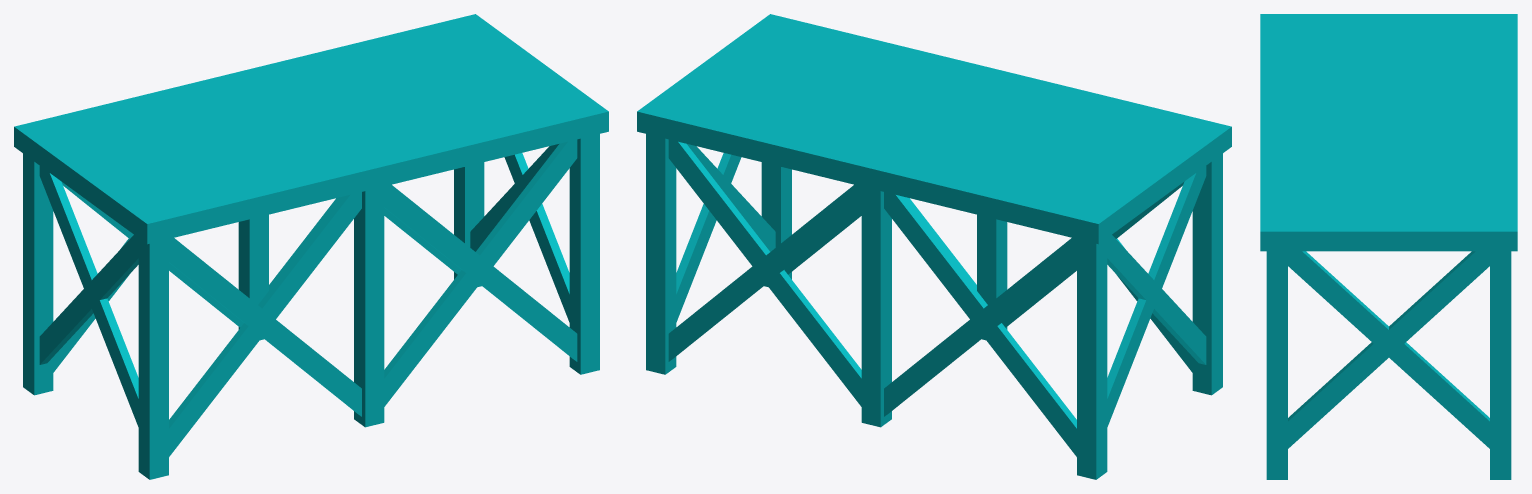
The model's file is 2x1_stand.fbx.
3 renders of one model, left to right at view 1: azimuth 30°, elevation 25°; view 2: azimuth 150°, elevation 25°; view 3: azimuth 270°, elevation 25°, orthographic. The views are drawn at different scales.
Parts seen in each view (by area): view 1: Cube, leg5, StaticMesh6, leg1, StaticMesh8, leg2, leg6, support_1A2, support_1A, StaticMesh, StaticMesh3, leg4 (+6 smaller); view 2: Cube, leg6, StaticMesh7, leg4, StaticMesh9, leg3, leg5, support_1A3, support_1A1, StaticMesh3, StaticMesh, leg1 (+6 smaller); view 3: Cube, StaticMesh4, StaticMesh5, leg2, leg3.
Boxes of the visible parts, left/top/right/bottom form: Cube: left=14, top=14, right=608, bottom=244; leg5: left=138, top=238, right=168, bottom=479; StaticMesh6: left=384, top=139, right=577, bottom=406; leg1: left=354, top=186, right=384, bottom=427; StaticMesh8: left=169, top=192, right=361, bottom=456; leg2: left=569, top=134, right=599, bottom=374; leg6: left=23, top=153, right=53, bottom=395; support_1A2: left=169, top=238, right=361, bottom=416; support_1A: left=384, top=184, right=577, bottom=361; StaticMesh: left=39, top=166, right=138, bottom=426; StaticMesh3: left=39, top=235, right=138, bottom=364; leg4: left=238, top=214, right=268, bottom=340; Cube: left=637, top=14, right=1231, bottom=244; leg6: left=1077, top=238, right=1107, bottom=479; StaticMesh7: left=668, top=139, right=861, bottom=406; leg4: left=861, top=186, right=891, bottom=427; StaticMesh9: left=884, top=192, right=1076, bottom=456; leg3: left=646, top=134, right=676, bottom=374; leg5: left=1192, top=153, right=1222, bottom=395; support_1A3: left=884, top=238, right=1076, bottom=416; support_1A1: left=668, top=184, right=861, bottom=361; StaticMesh3: left=1107, top=166, right=1206, bottom=426; StaticMesh: left=1107, top=235, right=1206, bottom=364; leg1: left=977, top=214, right=1007, bottom=340; Cube: left=1260, top=14, right=1517, bottom=251; StaticMesh4: left=1288, top=251, right=1489, bottom=448; StaticMesh5: left=1288, top=251, right=1489, bottom=448; leg2: left=1266, top=251, right=1287, bottom=479; leg3: left=1490, top=251, right=1511, bottom=479.
Size of the model in its own units: 600 by 300 by 322.
